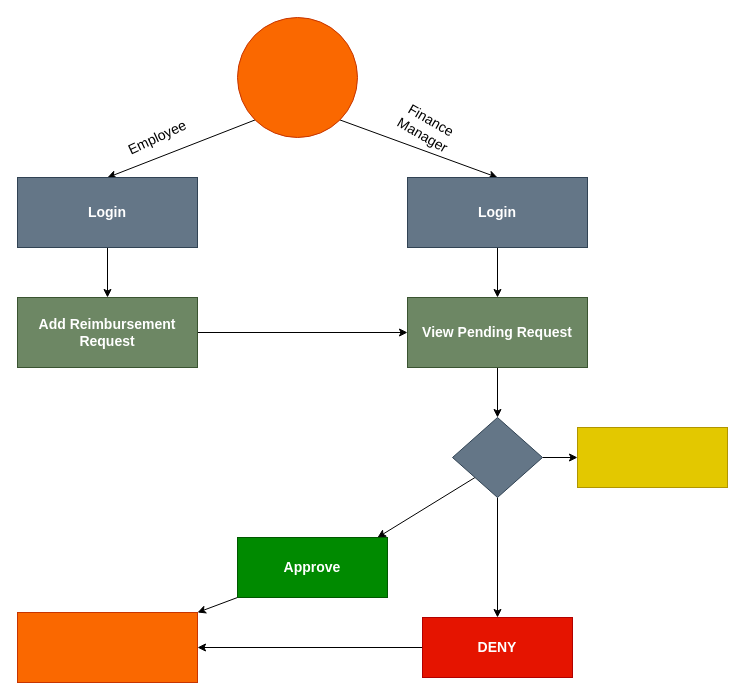
This 745x700 diagram has some shape labels left out. Here are the shapes that lost their labels. From the top down, the centre of each, then its label:
(297,77): User + Control Menu Service
(652,457): Meets Company Rules?
(107,647): View Updated Status
